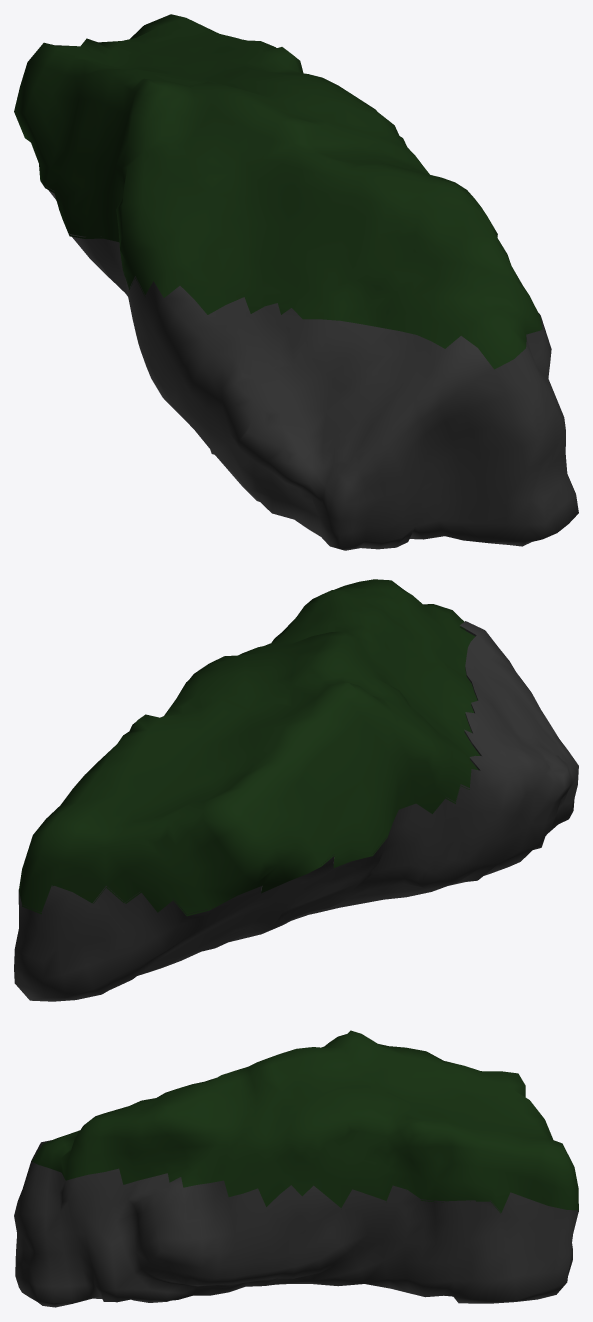
Rendered from Rock1.obj.
3 views of the same model, one above another, from view 1: azimuth 30°, elevation 25°; view 2: azimuth 150°, elevation 25°; view 3: azimuth 270°, elevation 25° (orthographic). The views are drawn at different scales.
Visible parts, largest first — view 1: TopRock_TopRock, RockBottom_RockBottom; view 2: TopRock_TopRock, RockBottom_RockBottom; view 3: TopRock_TopRock, RockBottom_RockBottom.
Boxes of the visible parts, box(x1,y1,x2,y2) form: TopRock_TopRock: box(14, 14, 542, 369); RockBottom_RockBottom: box(45, 186, 578, 550); TopRock_TopRock: box(19, 579, 480, 916); RockBottom_RockBottom: box(14, 621, 578, 1001); TopRock_TopRock: box(32, 1030, 578, 1213); RockBottom_RockBottom: box(14, 1140, 578, 1307).
Bounding box in the file's own units: 16.96 × 16.02 × 37.98.
